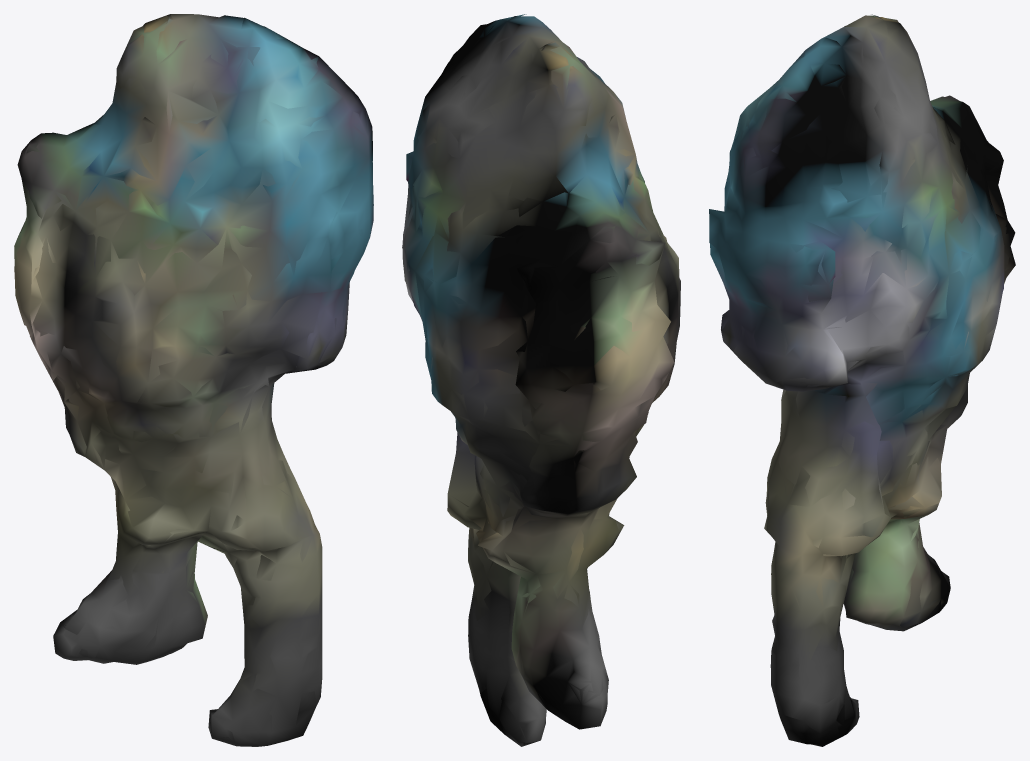
Rendered from chrono_commando.glb.
3 views of the same model, side by side, from view 1: azimuth 30°, elevation 25°; view 2: azimuth 150°, elevation 25°; view 3: azimuth 270°, elevation 25° (orthographic). The views are drawn at different scales.
Visible parts, largest first — view 1: chrono_commando; view 2: chrono_commando; view 3: chrono_commando.
Part boxes in pixels (left/top/right/bottom): chrono_commando: left=14, top=14, right=373, bottom=746; chrono_commando: left=402, top=14, right=680, bottom=746; chrono_commando: left=709, top=14, right=1015, bottom=746.
Size of the model in its own units: 0.9486 by 2.22 by 0.885.
